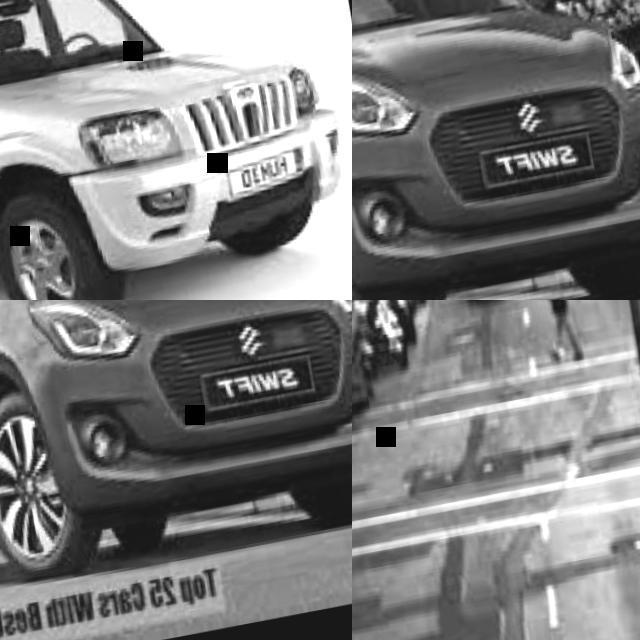car: (2, 0, 346, 296), (354, 0, 637, 289)
